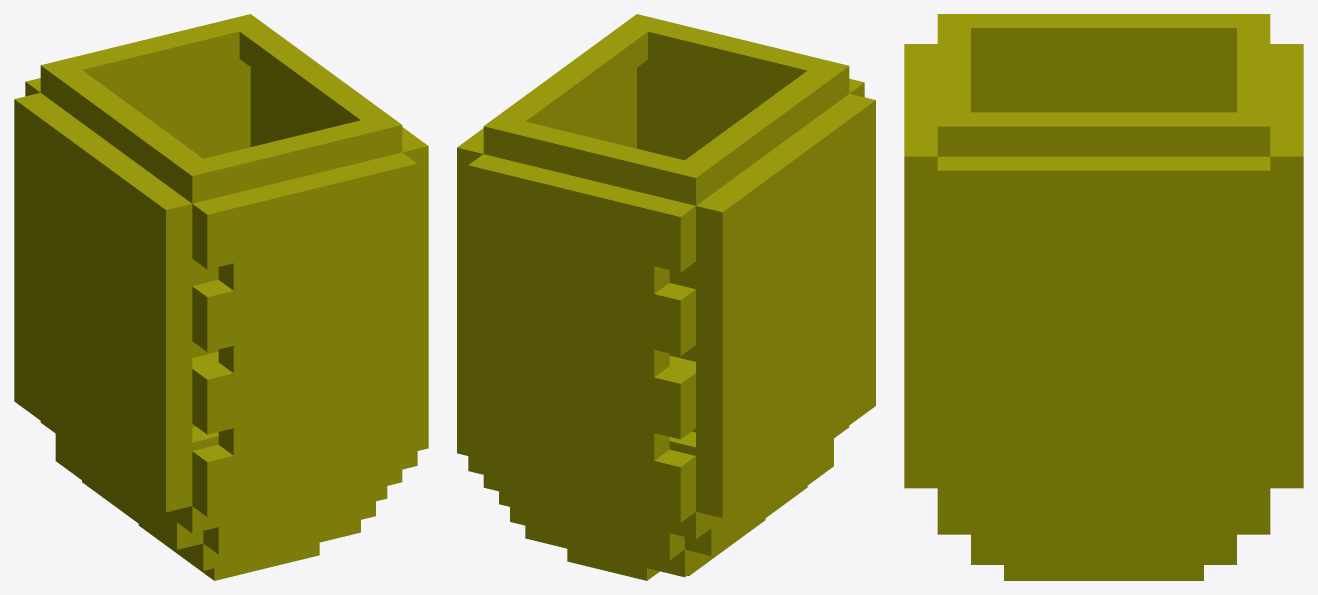
File: MoscaNivel5-2.obj
3 renders of one model, left to right at view 1: azimuth 30°, elevation 25°; view 2: azimuth 150°, elevation 25°; view 3: azimuth 270°, elevation 25°, orthographic. The views are drawn at different scales.
Bounding box in the file's own units: 1 × 1.6 × 1.2.
Materials: 1 (1 with a texture image).
